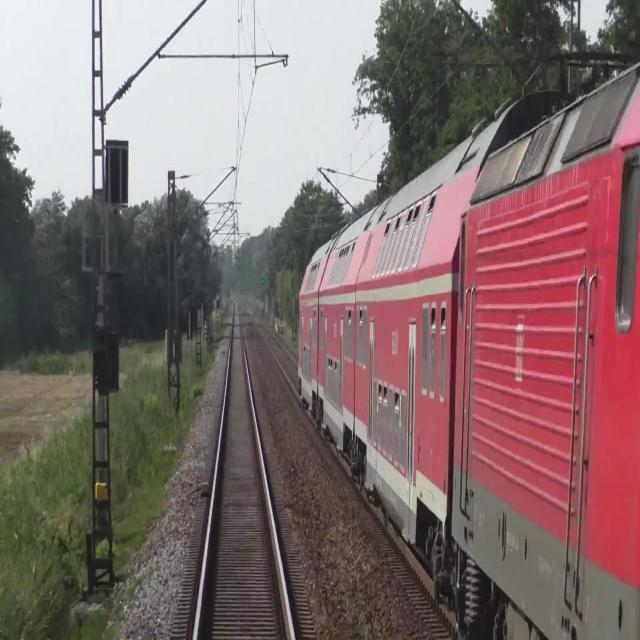rail-track: (197, 301, 291, 639), (244, 303, 297, 388)
